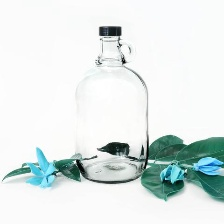bottle: (66, 20, 160, 187)
